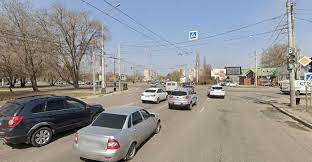tl: (285, 54, 298, 72)
